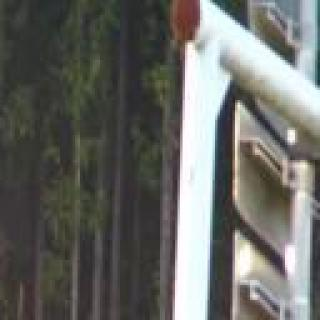fire: (0, 22, 13, 320)
